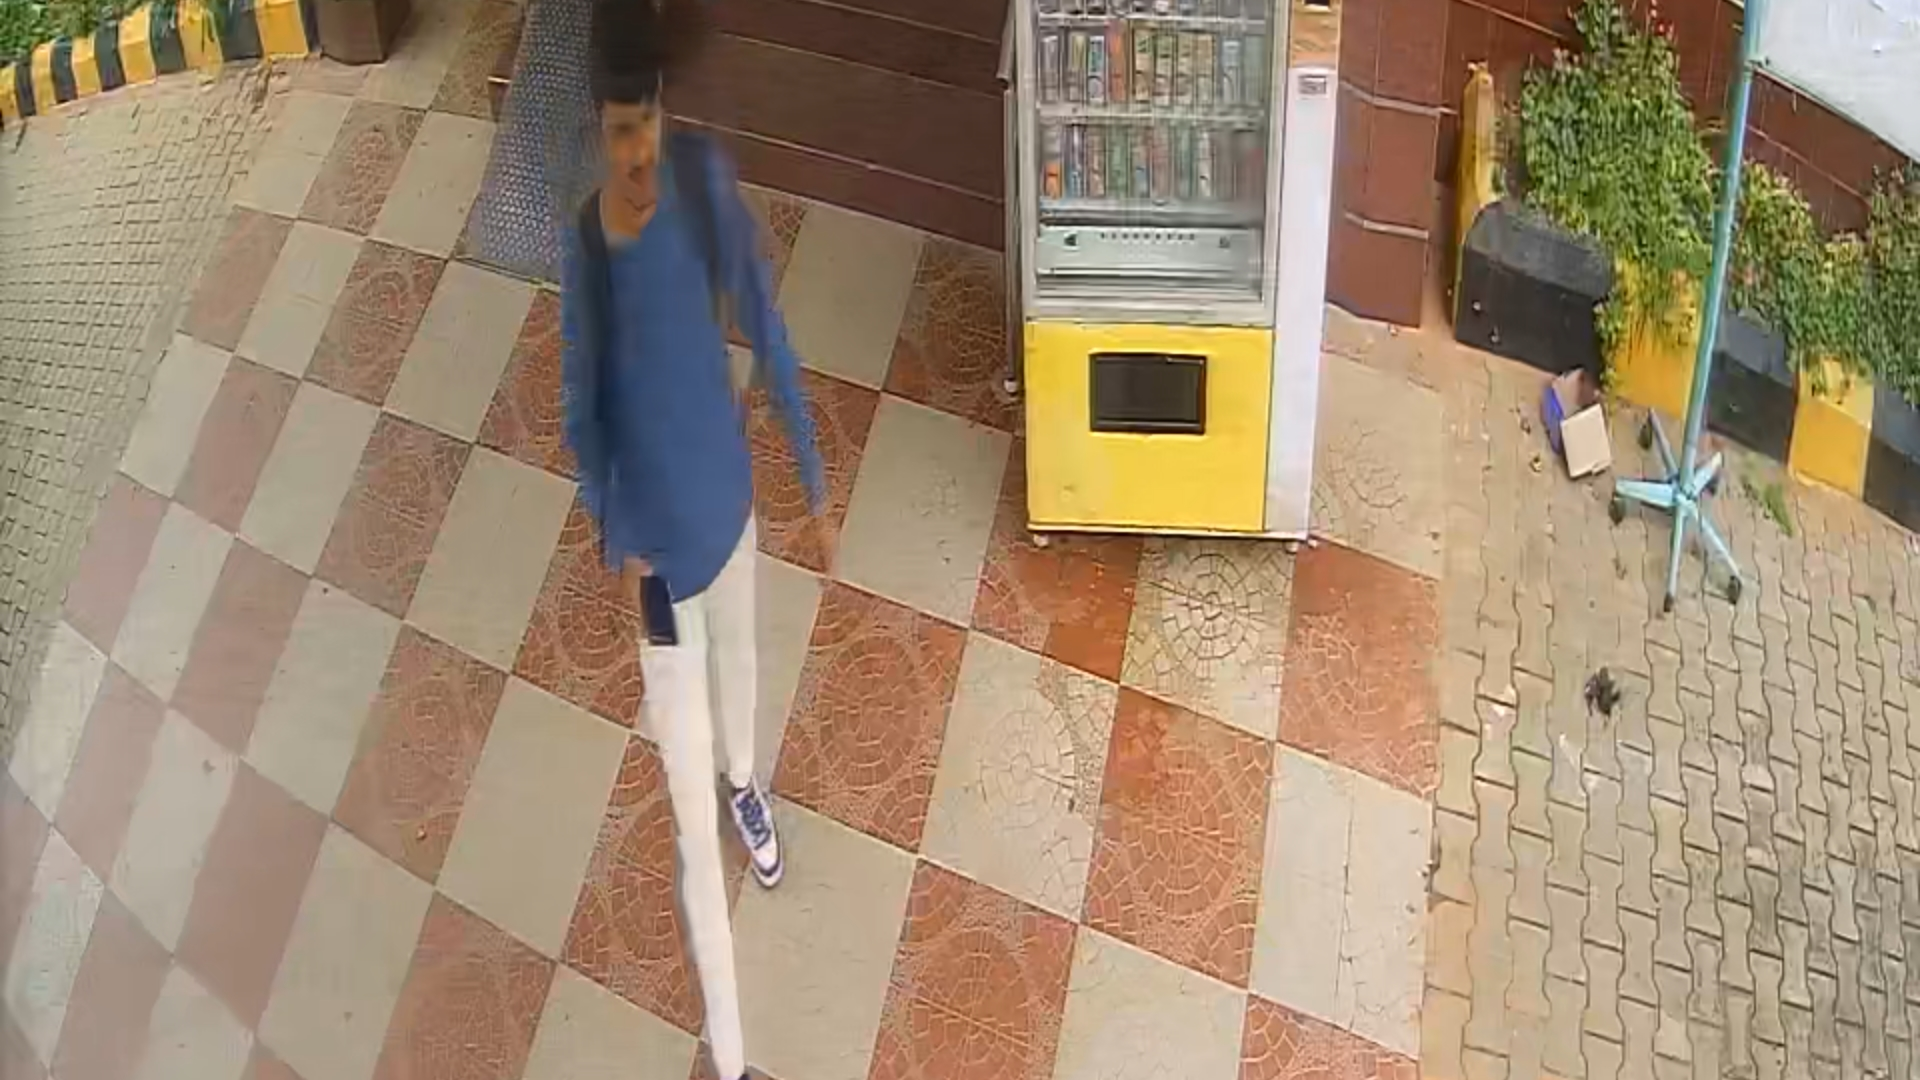intruder: (537, 1, 833, 1069)
